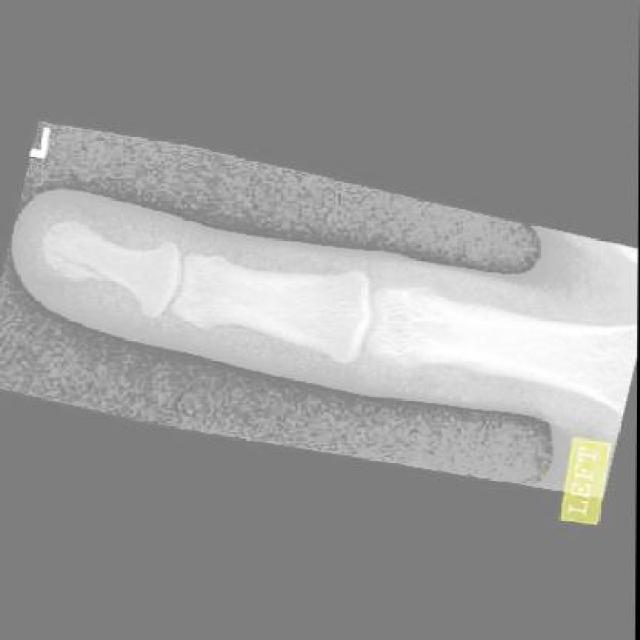bone: (39, 231, 107, 284)
